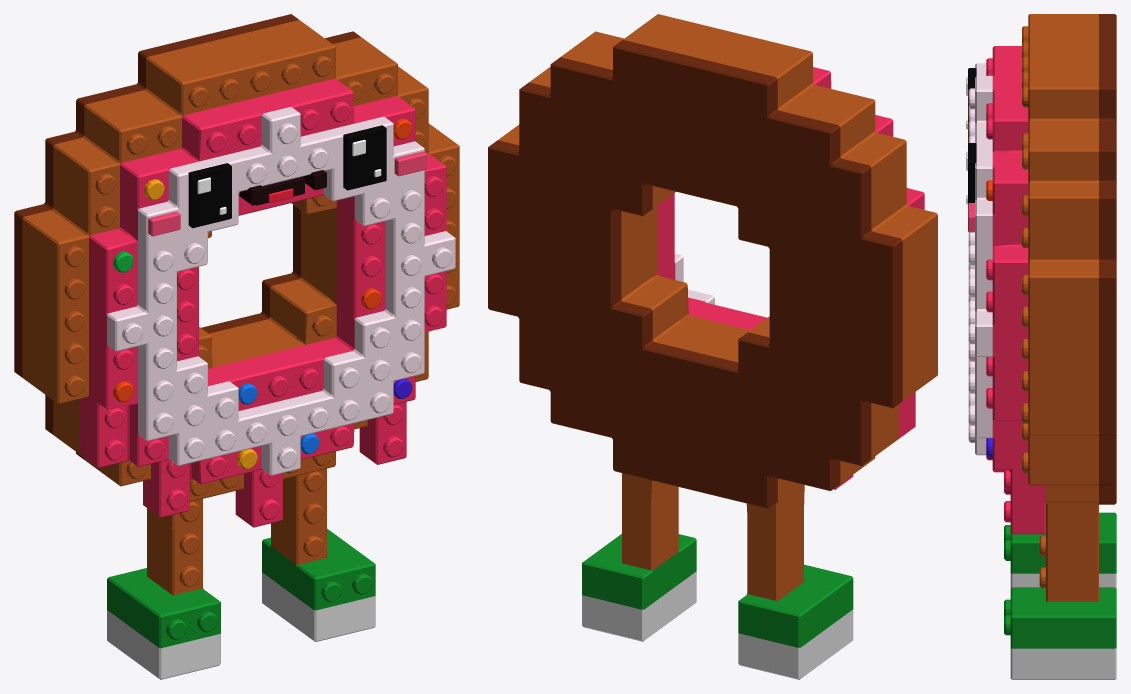
File: brick_donut_round.obj
3 views of the same model, side by side, from view 1: azimuth 30°, elevation 25°; view 2: azimuth 150°, elevation 25°; view 3: azimuth 270°, elevation 25° (orthographic).
Parts seen in each view (by area): view 1: Dough, Glaze, Crown, Shoe, Sole, Baked, Face, Eye1, Eye-1, Sprinkles4, Sprinkles0, Sprinkles1; view 2: Baked, Dough, Shoe, Sole, Glaze; view 3: Dough, Glaze, Baked, Shoe, Crown, Sole, Eye1, Eye-1.
Part boxes in pixels (x1,y1,x2,y2): Dough: [22, 20, 459, 594]; Glaze: [80, 78, 447, 527]; Crown: [107, 107, 455, 475]; Shoe: [107, 528, 375, 648]; Sole: [107, 572, 375, 679]; Baked: [14, 14, 360, 459]; Face: [148, 151, 426, 236]; Eye1: [343, 125, 386, 190]; Eye-1: [188, 163, 231, 228]; Sprinkles4: [113, 119, 412, 402]; Sprinkles0: [144, 179, 257, 469]; Sprinkles1: [238, 383, 319, 454]; Baked: [488, 40, 902, 508]; Dough: [498, 14, 937, 600]; Shoe: [582, 534, 853, 647]; Sole: [582, 571, 853, 679]; Glaze: [657, 67, 924, 489]; Dough: [1022, 14, 1098, 601]; Glaze: [986, 46, 1045, 534]; Baked: [1099, 14, 1116, 504]; Shoe: [1004, 512, 1116, 648]; Crown: [968, 63, 992, 455]; Sole: [1010, 573, 1116, 679]; Eye1: [966, 143, 976, 204]; Eye-1: [966, 68, 976, 129].
Size of the model in its own units: 4.6 by 6.37 by 1.5.
